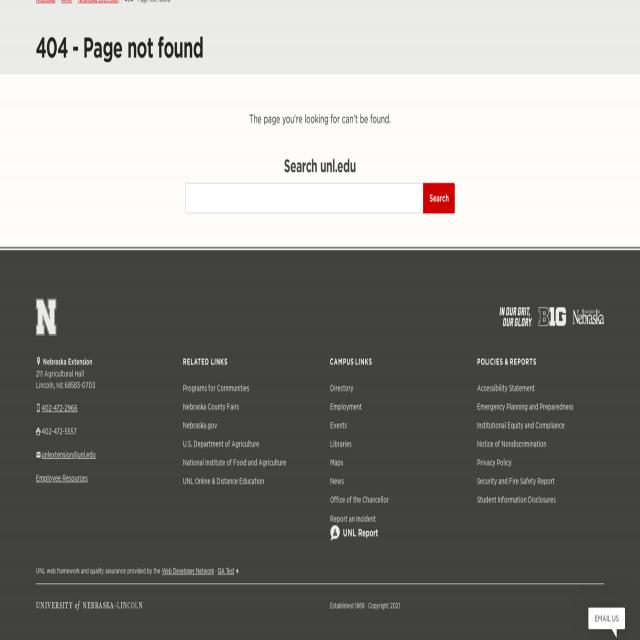button: (423, 183, 455, 214), (330, 524, 378, 542), (588, 608, 624, 629), (36, 299, 56, 335), (499, 307, 533, 327), (539, 307, 566, 327), (572, 309, 604, 325)
field: (185, 183, 424, 214)
